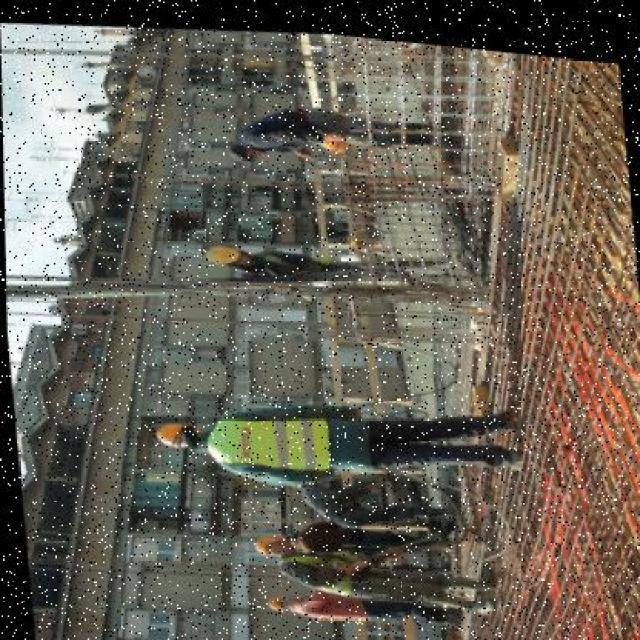helmet: (148, 410, 200, 451)
vest: (208, 402, 329, 468)
